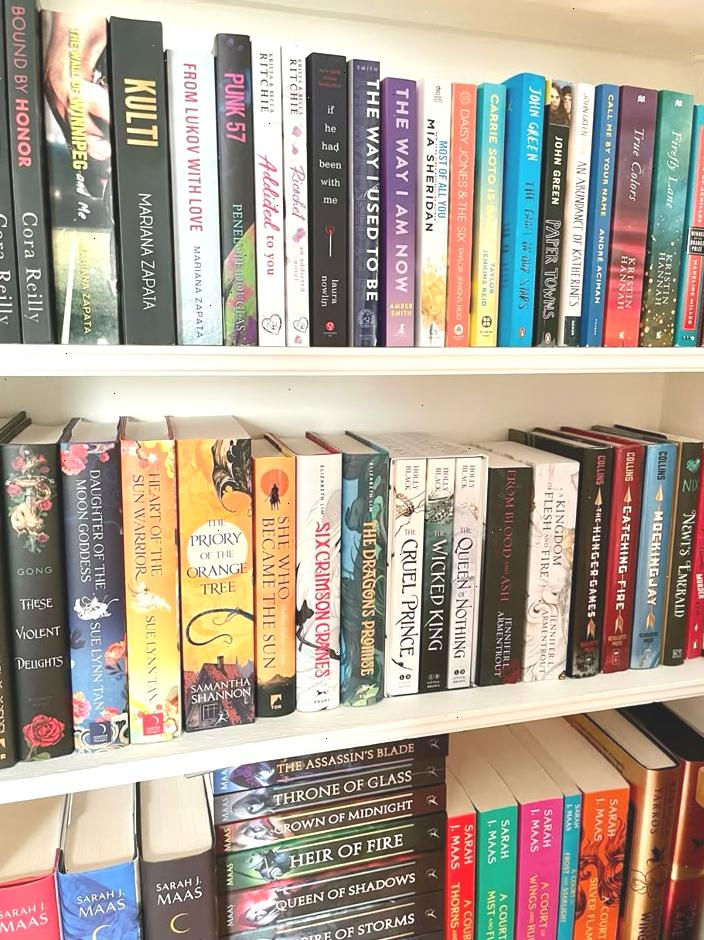book: (58, 422, 130, 754), (486, 438, 579, 686), (108, 19, 177, 342), (118, 420, 182, 744), (272, 435, 344, 711), (2, 0, 53, 339), (484, 725, 564, 940), (167, 48, 224, 345), (328, 437, 390, 705), (586, 429, 650, 674), (601, 87, 658, 347), (250, 439, 301, 719), (214, 34, 258, 342), (499, 74, 545, 348), (308, 52, 350, 343), (627, 436, 679, 670), (384, 453, 428, 701), (251, 38, 287, 341), (380, 73, 418, 346), (580, 84, 619, 347), (534, 81, 572, 347), (559, 82, 595, 345), (281, 40, 312, 343), (444, 81, 478, 348), (470, 80, 504, 347), (351, 60, 383, 343), (418, 78, 452, 344), (419, 453, 456, 694), (450, 449, 487, 689), (0, 0, 23, 342), (674, 100, 704, 347), (684, 444, 704, 660)
